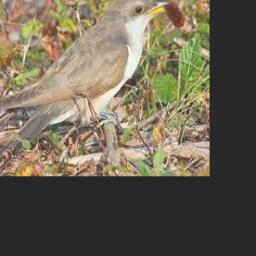Cuckoo: (0, 0, 169, 176)
